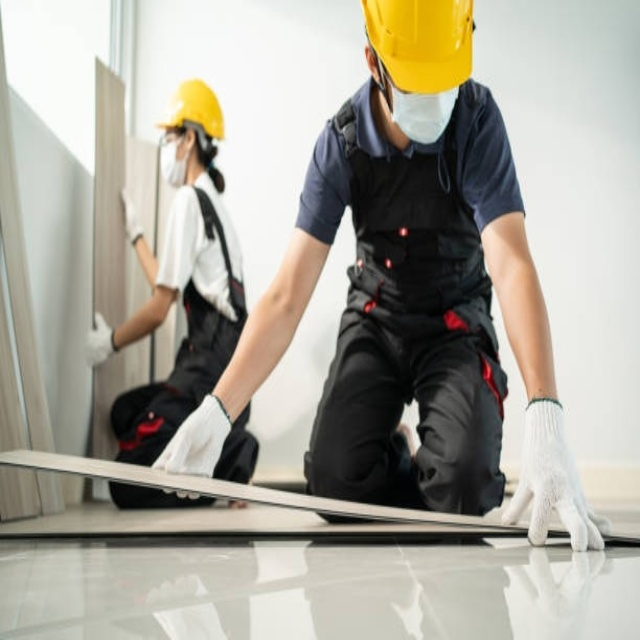Gafas: (156, 127, 188, 154)
Guantes: (496, 387, 612, 558), (147, 392, 239, 505), (78, 304, 118, 367), (118, 185, 148, 245)
Mascara: (384, 65, 460, 146), (161, 134, 192, 187)
